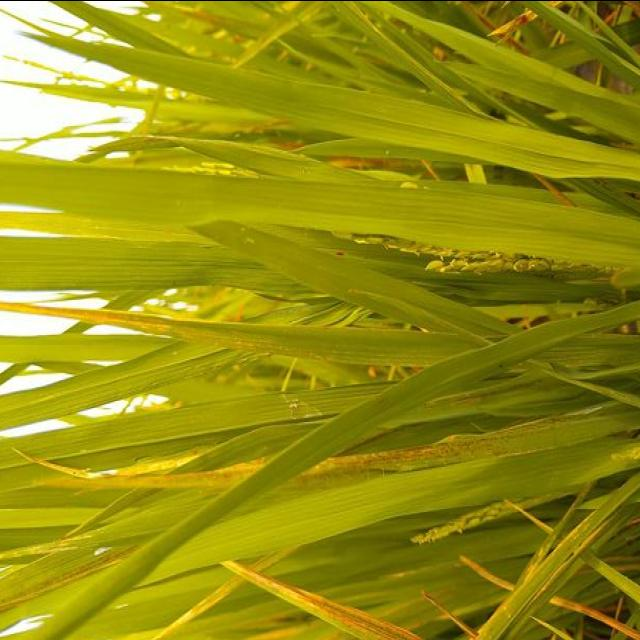Leaf Streak: (300, 410, 640, 474), (221, 560, 428, 640), (477, 519, 589, 640), (0, 301, 233, 338), (0, 549, 126, 613), (44, 456, 270, 487), (143, 573, 244, 640)
